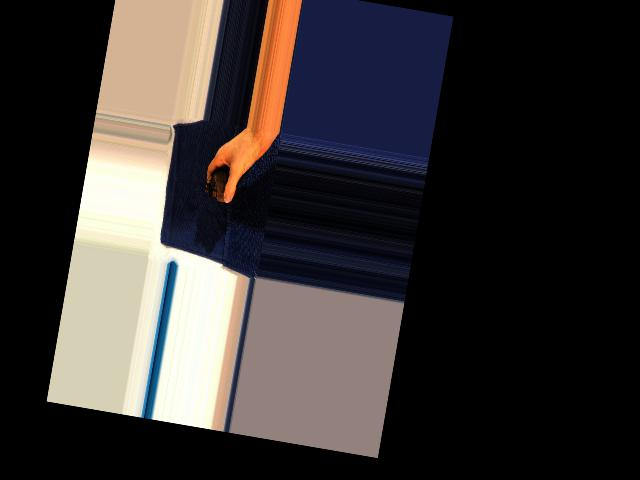beet: (203, 163, 252, 207)
